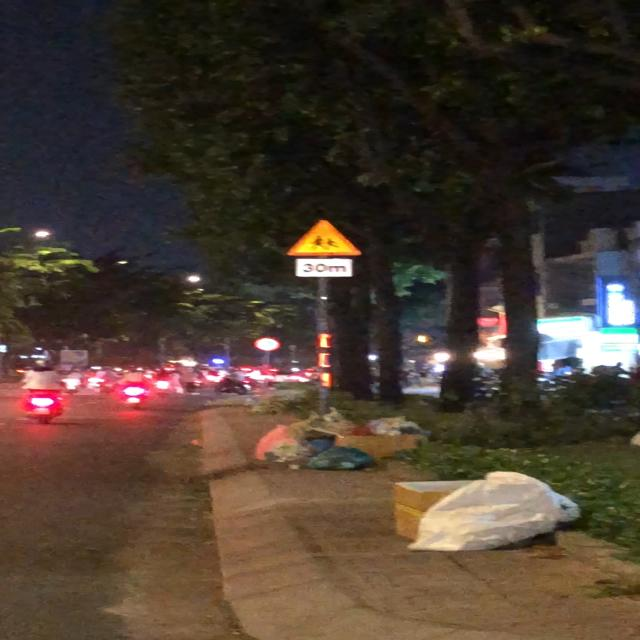Bien bao tre em: (283, 218, 365, 258)
